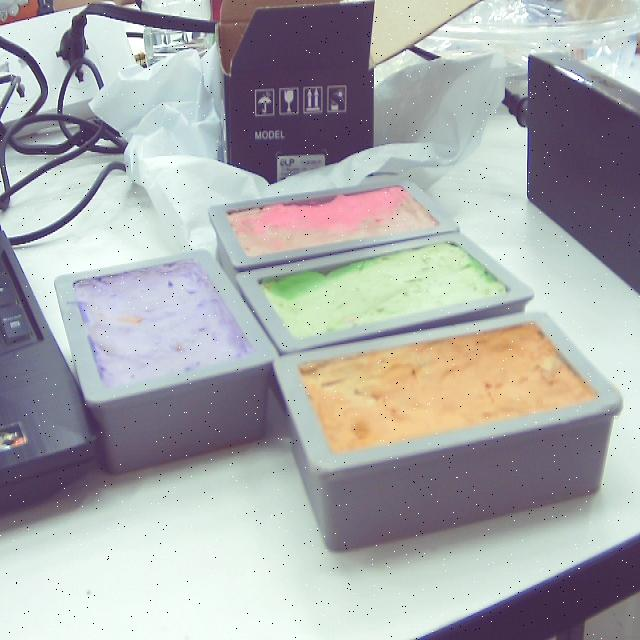block: (276, 308, 626, 550), (52, 250, 280, 474), (228, 230, 531, 358), (207, 178, 462, 275)
